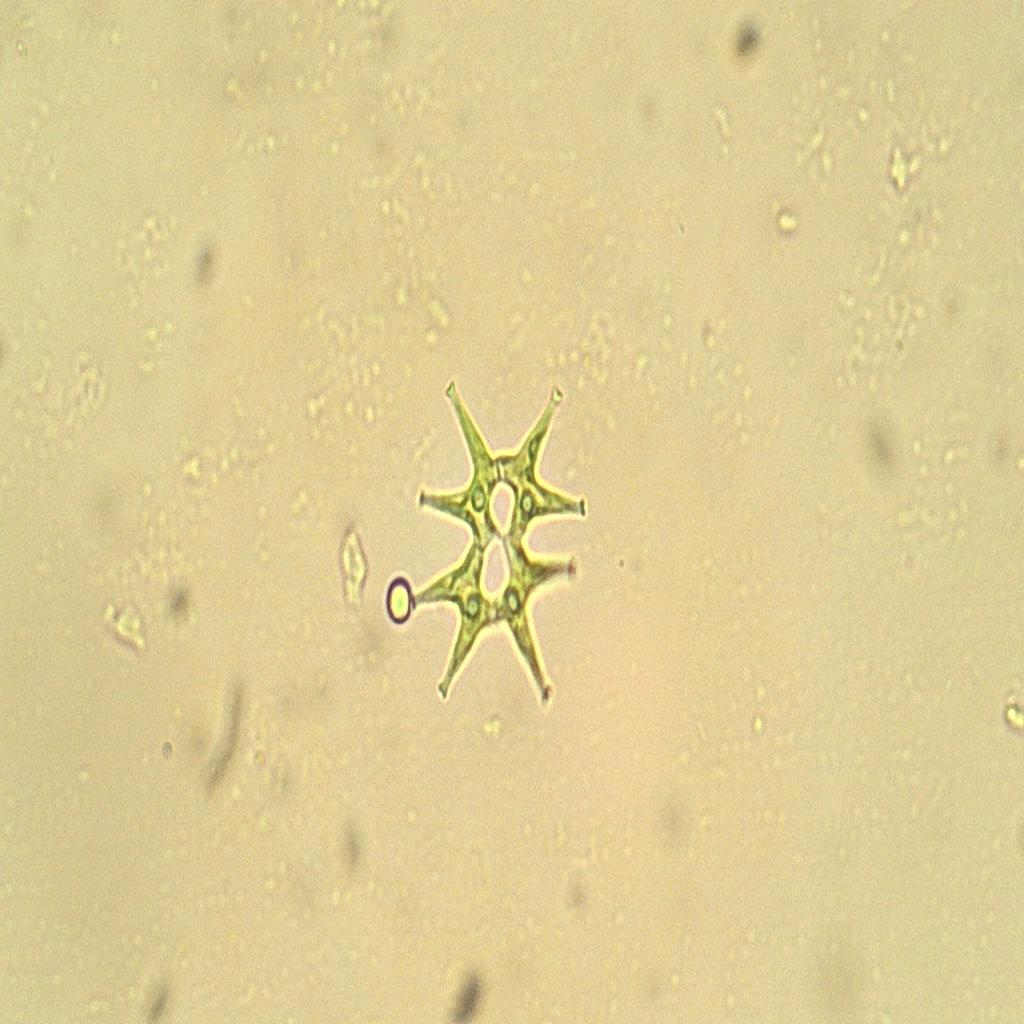Pediastrum_CF: (402, 355, 594, 735)
